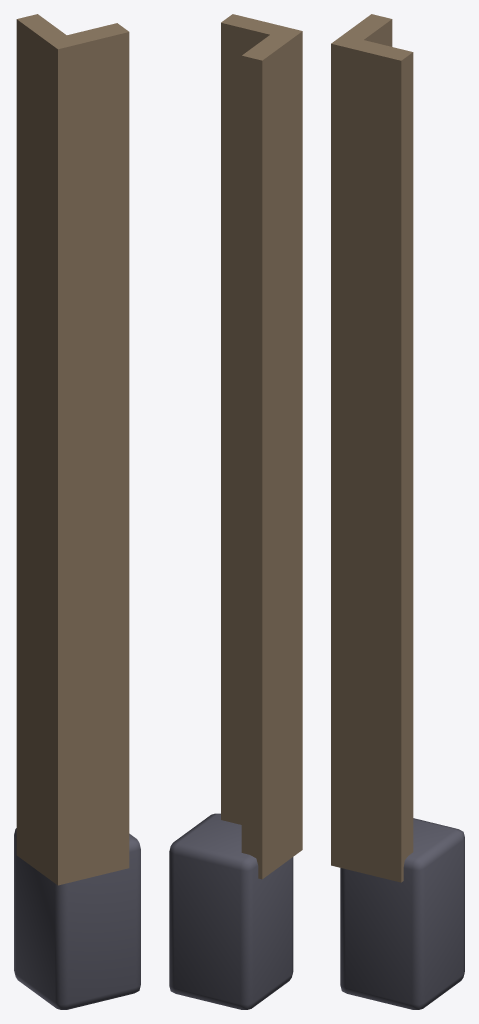
Rendered from kit_clap_corner.glb.
3 renders of one model, left to right at view 1: azimuth 30°, elevation 25°; view 2: azimuth 150°, elevation 25°; view 3: azimuth 330°, elevation 25°, orthographic. The views are drawn at different scales.
Visible parts, largest first — view 1: kit_clap_corner; view 2: kit_clap_corner; view 3: kit_clap_corner.
Part boxes in pixels (x1=…): kit_clap_corner: x1=14, y1=14, x2=140, y2=1009; kit_clap_corner: x1=169, y1=14, x2=302, y2=1009; kit_clap_corner: x1=331, y1=14, x2=464, y2=1009.
Bounding box in the file's own units: 0.21 × 2.2 × 0.21.
